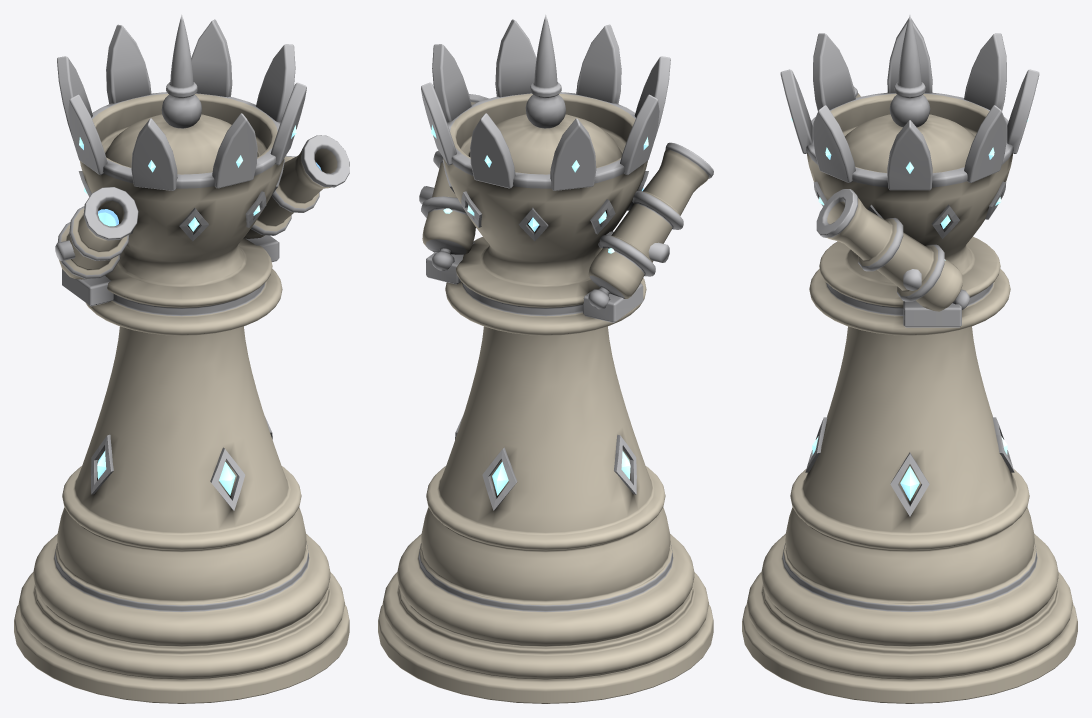
Rendered from siege_queen.glb.
3 views of the same model, side by side, from view 1: azimuth 30°, elevation 25°; view 2: azimuth 150°, elevation 25°; view 3: azimuth 270°, elevation 25° (orthographic).
Parts seen in each view (by area): view 1: siege_queen; view 2: siege_queen; view 3: siege_queen.
Part boxes in pixels (<box>): siege_queen: <box>14,14,349,703</box>; siege_queen: <box>378,14,713,703</box>; siege_queen: <box>742,15,1077,703</box>.
Bounding box in the file's own units: 0.74 × 1.51 × 0.74.
